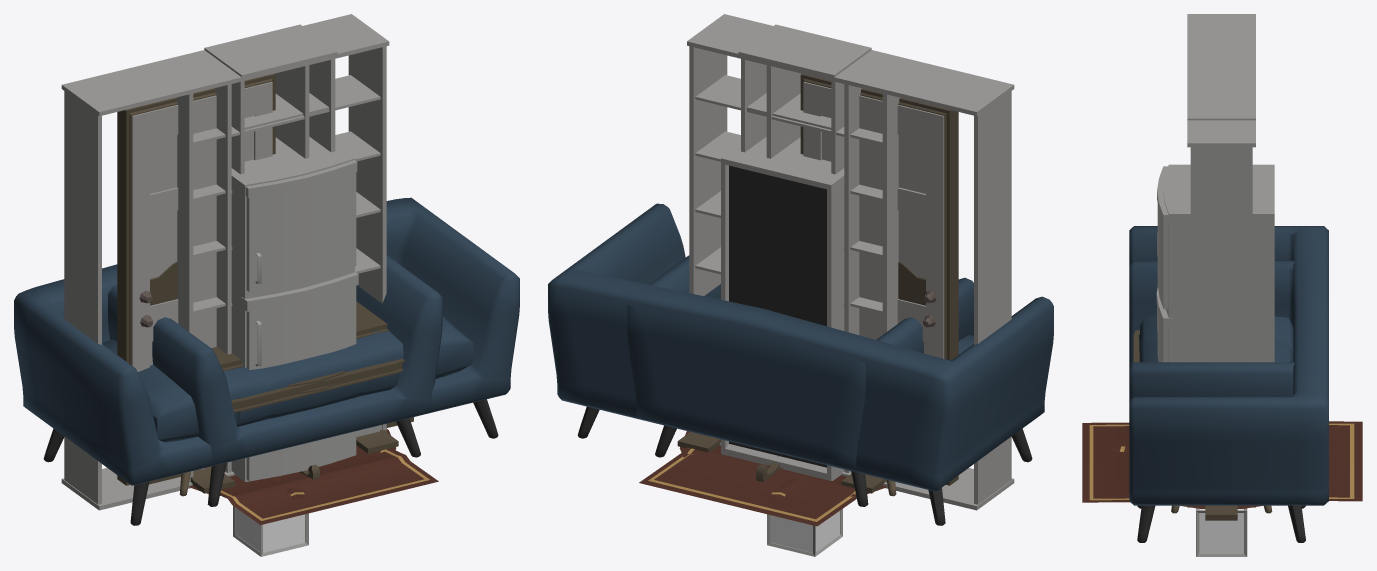
File: props_interior.glb
The picture shows the model from 3 angles, left to right: view 1: azimuth 30°, elevation 25°; view 2: azimuth 150°, elevation 25°; view 3: azimuth 270°, elevation 25°; orthographic projection. The views are drawn at different scales.
Visible parts, largest first — view 1: Couch_Medium1, Shelf_Large, Kitchen_Fridge, Couch_Small1, Door_1, Bookshelf, Shelf_2, Carpet_1, Door_4, Table_RoundLarge, Light_Cube, Drawer_1; view 2: Couch_Medium1, Couch_Small1, Shelf_Large, Kitchen_Fridge, Door_1, Bookshelf, Carpet_1, Shelf_2, Door_4, Light_Cube, Table_RoundLarge; view 3: Couch_Medium1, Bookshelf, Kitchen_Fridge, Couch_Small1, Carpet_1, Shelf_2, Shelf_Large, Light_Cube, Table_RoundLarge.
Boxes of the visible parts, bbox=[...] form: Couch_Medium1: bbox=[14, 197, 519, 525]; Shelf_Large: bbox=[61, 21, 388, 510]; Kitchen_Fridge: bbox=[231, 136, 358, 481]; Couch_Small1: bbox=[108, 255, 442, 506]; Door_1: bbox=[131, 82, 272, 371]; Bookshelf: bbox=[153, 14, 389, 488]; Shelf_2: bbox=[204, 24, 337, 174]; Carpet_1: bbox=[220, 445, 438, 524]; Door_4: bbox=[117, 74, 275, 485]; Table_RoundLarge: bbox=[149, 358, 413, 493]; Light_Cube: bbox=[233, 506, 308, 556]; Drawer_1: bbox=[179, 301, 388, 496]; Couch_Medium1: bbox=[548, 203, 1053, 525]; Couch_Small1: bbox=[627, 255, 973, 506]; Shelf_Large: bbox=[687, 16, 1014, 510]; Kitchen_Fridge: bbox=[721, 137, 844, 480]; Door_1: bbox=[803, 81, 944, 358]; Bookshelf: bbox=[687, 14, 922, 483]; Carpet_1: bbox=[639, 445, 856, 526]; Shelf_2: bbox=[738, 24, 871, 174]; Door_4: bbox=[800, 74, 958, 485]; Light_Cube: bbox=[767, 509, 842, 556]; Table_RoundLarge: bbox=[677, 431, 885, 493]; Couch_Medium1: bbox=[1129, 226, 1328, 542]; Bookshelf: bbox=[1187, 54, 1255, 507]; Kitchen_Fridge: bbox=[1156, 164, 1274, 362]; Couch_Small1: bbox=[1129, 260, 1328, 508]; Carpet_1: bbox=[1082, 421, 1362, 502]; Shelf_2: bbox=[1187, 75, 1255, 120]; Shelf_Large: bbox=[1187, 14, 1255, 142]; Light_Cube: bbox=[1196, 508, 1247, 556]; Table_RoundLarge: bbox=[1133, 330, 1237, 520].
Bounding box in the file's own units: 4.69 × 5.47 × 3.09.
